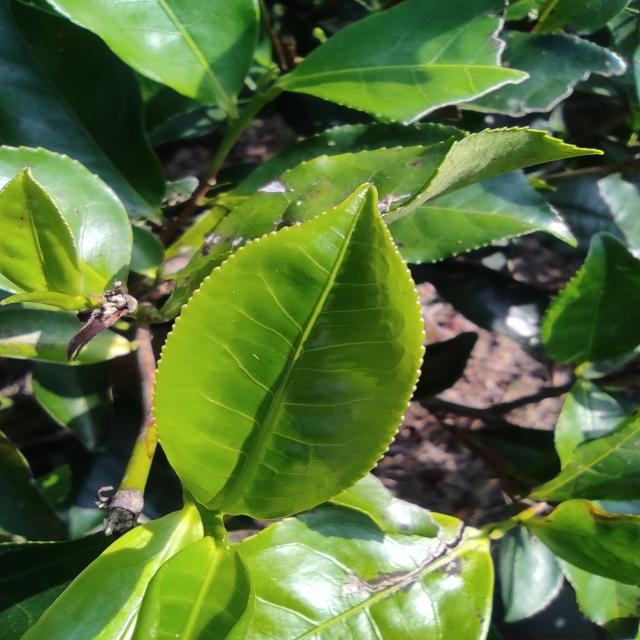Category B(2-4 days): (142, 176, 438, 531)
